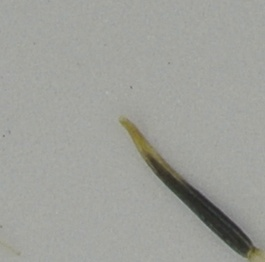เมล็ดดีเรียวยาว: (117, 114, 263, 260)
